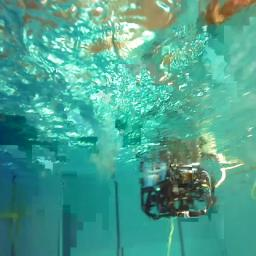Side: (140, 167, 212, 219)
